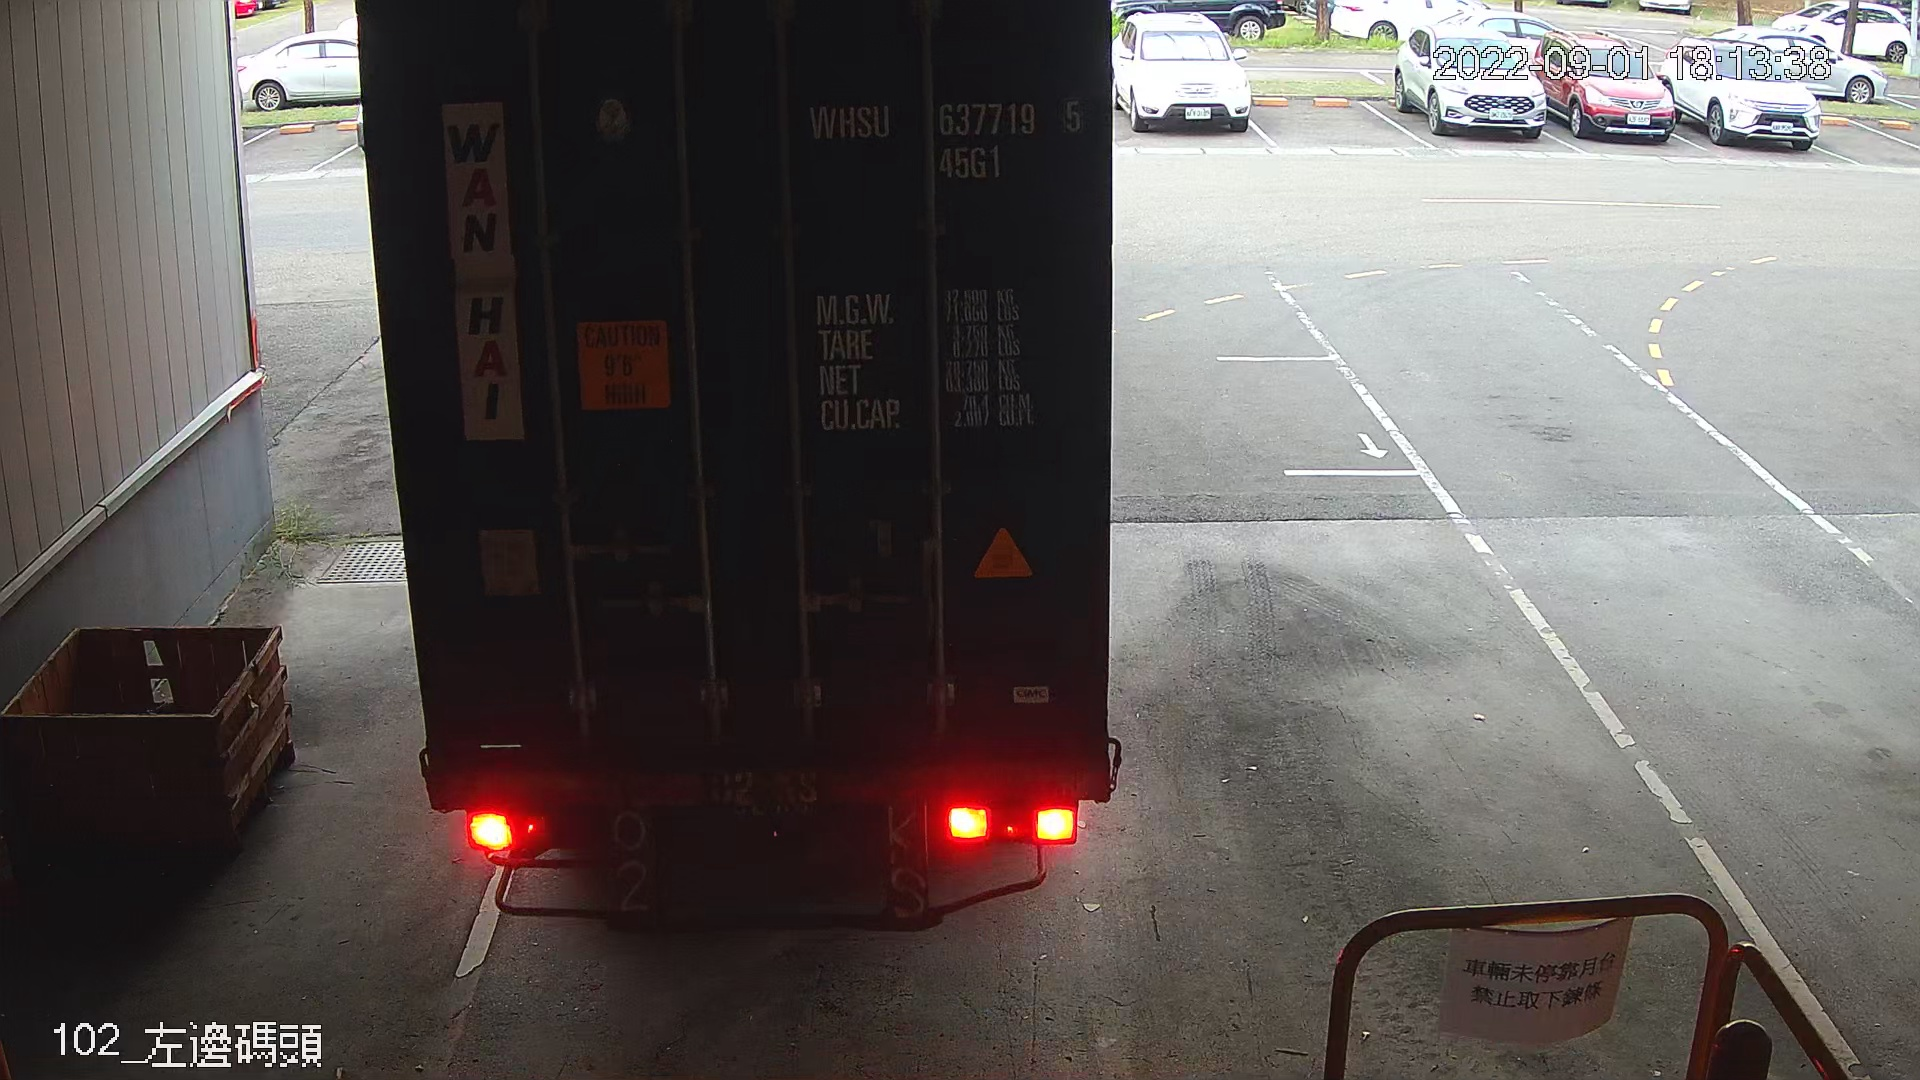container: (798, 82, 1095, 189)
